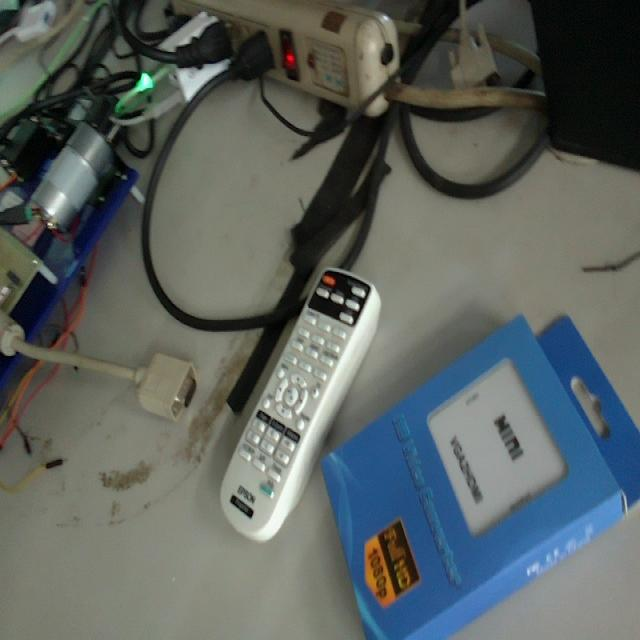remote: (326, 314, 640, 640), (222, 268, 382, 544)
